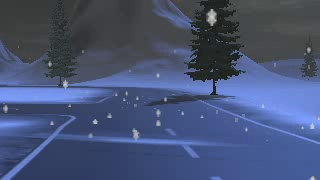Lane: (1, 85, 319, 179)
